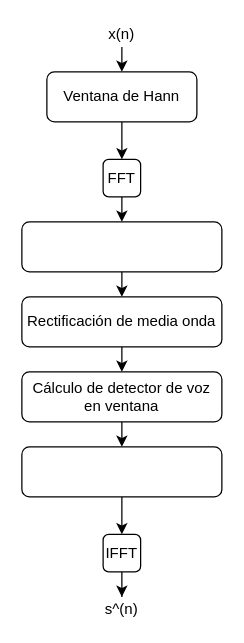
This 244x643 diagram has some shape labels left out. The shapes that lost their labels are listed below. From the top down, each one's centre as x and y in pixels, then its label:
point 121,246: Cálculo del filtro estimador de resta espectral
point 121,471: Atenuar señal en momentos sin voz
